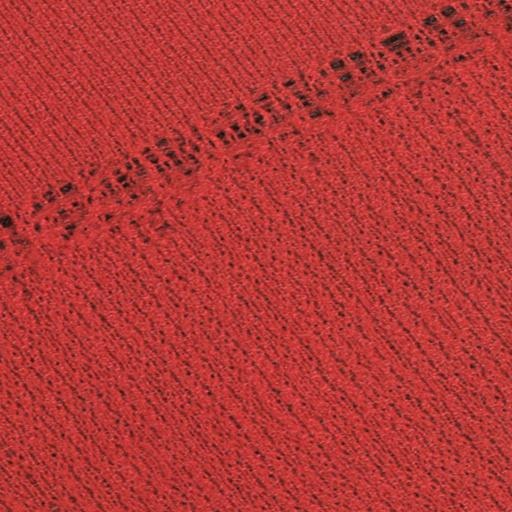slub: (1, 0, 512, 282)
